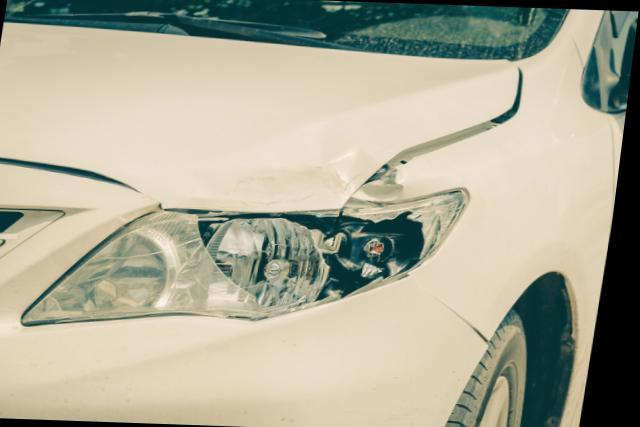dent: (234, 150, 379, 214), (355, 163, 413, 202)
dislocated part: (0, 22, 519, 213)
lamp broken: (29, 191, 472, 328)
